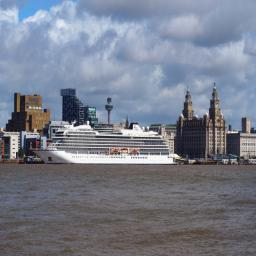cruises: (29, 121, 180, 169)
